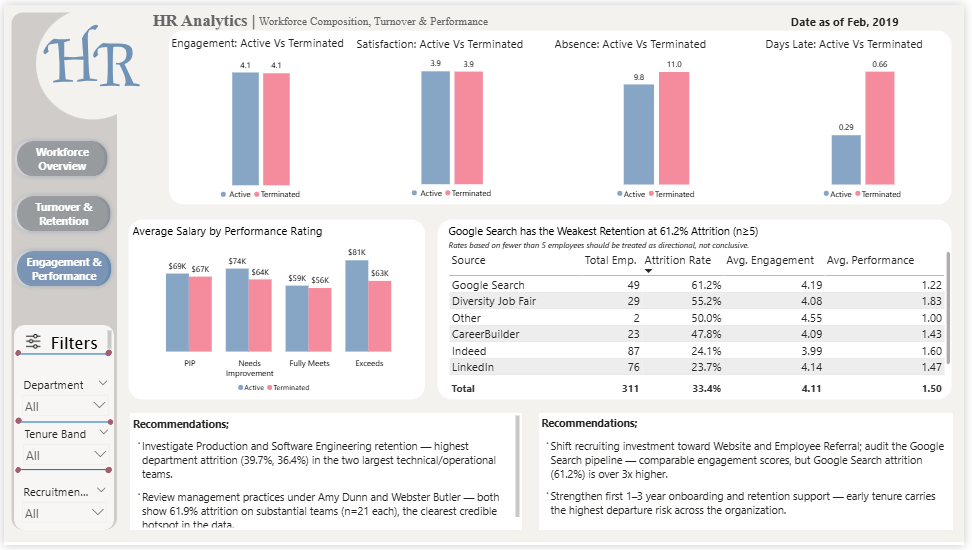

Layout of this report page (visuals, bound fields, positions):
{"tool":"powerbi","page":{"name":"Engagement, Performance & Recruitment ","canvas":[1920,1080],"ordinal":2},"visuals":[{"type":"shape","box":[20,640,200,410],"z":0},{"type":"slicer","fields":{"Values":["Dimdepartment.Department"]},"box":[25.3,738.7,193.2,90.3],"z":1000},{"type":"slicer","fields":{"Values":["Employees (working copy).Tenure_Band"]},"box":[27.5,835,192.5,90],"z":2000},{"type":"slicer","fields":{"Values":["Employees (working copy).RecruitmentSource"]},"box":[25.3,951.8,189.6,88.5],"z":3000},{"type":"image","box":[37.2,658.6,40,29],"z":4000},{"type":"textbox","box":[28.9,646.2,192,51.6],"z":5000},{"type":"shape","box":[30.7,688.1,182.4,19.9],"z":6000},{"type":"shape","box":[200.3,671,18.6,51.6],"z":7000},{"type":"shape","box":[20.6,671,16.5,51.6],"z":8000},{"type":"shape","box":[30.7,827.2,185,12],"z":9000},{"type":"shape","box":[204.1,825.4,18.1,16.3],"z":10000},{"type":"shape","box":[19.9,816.3,18.1,30.7],"z":11000},{"type":"shape","box":[31,924.9,177.5,10.3],"z":12000},{"type":"shape","box":[200.3,900.1,18.6,59.9],"z":13000},{"type":"shape","box":[20.6,900.1,16.5,59.9],"z":14000},{"type":"clusteredColumnChart","title":"Engagement: Active Vs Terminated","fields":{"Y":["_Measures.Avg Engagement (Active)","_Measures.Avg Engagement (Terminated)"]},"box":[330.3,59.9,369.5,338.6],"z":15000},{"type":"clusteredColumnChart","title":"Satisfaction: Active Vs Terminated","fields":{"Y":["_Measures.Avg Satisfaction (Active)","_Measures.Avg Satisfaction (Terminated)"]},"box":[699.9,61.9,394.3,334.5],"z":16000},{"type":"clusteredColumnChart","title":"Absence: Active Vs Terminated","fields":{"Y":["_Measures.Avg Absences (Active)","_Measures.Avg Absences (Terminated)"]},"box":[1095.8,61.1,419.8,335],"z":17000},{"type":"clusteredColumnChart","title":"Days Late: Active Vs Terminated","fields":{"Y":["_Measures.Avg Days Late (Active)","_Measures.Avg Days Late (Terminated)"]},"box":[1517.5,61.1,402,335],"z":18000},{"type":"shape","box":[1444.8,0,475,65],"z":19000},{"type":"tableEx","fields":{"Values":["Employees (working copy).RecruitmentSource","_Measures.Total Employees","_Measures.Attrition Rate by Recruitment Source","_Measures.Avg Engagement by Recruitment Source","_Measures.Avg Performance Rank by Recruitment Source"]},"box":[884,436,1014,348],"z":20000},{"type":"clusteredColumnChart","title":"Average Salary by Performance Rating ","fields":{"Y":["_Measures.Average Salary"],"Category":["DimPerformance Score.PerformanceScore"],"Series":["Employees (working copy).Employment Status (Simple)"]},"box":[252.3,435.5,579.4,348.8],"z":21000},{"type":"actionButton","box":[17.7,264.1,197.1,86.7],"z":22000},{"type":"actionButton","box":[17.7,373.6,203,86.7],"z":23000},{"type":"actionButton","box":[17.7,483.1,204.4,86.7],"z":24000},{"type":"image","box":[24.8,6.2,305.5,223],"z":25000},{"type":"shape","box":[208,0,384,60],"z":26000},{"type":"shape","box":[504,12,492,40],"z":27000},{"type":"textbox","box":[252,816,784,234],"z":28000},{"type":"textbox","box":[1070,816,828,234],"z":29000}]}

Visuals, with their boxes in screenshot pixels (x1, y1, x2, y2), scaled from the page's 1920x1080 canvas onto the 972x550 screenshot:
shape: detection(10, 326, 111, 535)
slicer - Dimdepartment.Department: detection(13, 376, 111, 422)
slicer - Employees (working copy).Tenure_Band: detection(14, 425, 111, 471)
slicer - Employees (working copy).RecruitmentSource: detection(13, 485, 109, 530)
image: detection(19, 335, 39, 350)
textbox: detection(15, 329, 112, 355)
shape: detection(16, 350, 108, 361)
shape: detection(101, 342, 111, 368)
shape: detection(10, 342, 19, 368)
shape: detection(16, 421, 109, 427)
shape: detection(103, 420, 112, 429)
shape: detection(10, 416, 19, 431)
shape: detection(16, 471, 106, 476)
shape: detection(101, 458, 111, 489)
shape: detection(10, 458, 19, 489)
"Engagement: Active Vs Terminated" clusteredColumnChart: detection(167, 31, 354, 203)
"Satisfaction: Active Vs Terminated" clusteredColumnChart: detection(354, 32, 554, 202)
"Absence: Active Vs Terminated" clusteredColumnChart: detection(555, 31, 767, 202)
"Days Late: Active Vs Terminated" clusteredColumnChart: detection(768, 31, 971, 202)
shape: detection(731, 0, 971, 33)
tableEx - Employees (working copy).RecruitmentSource x _Measures.Total Employees: detection(448, 222, 961, 399)
"Average Salary by Performance Rating " clusteredColumnChart: detection(128, 222, 421, 399)
actionButton: detection(9, 134, 109, 179)
actionButton: detection(9, 190, 112, 234)
actionButton: detection(9, 246, 112, 290)
image: detection(13, 3, 167, 117)
shape: detection(105, 0, 300, 31)
shape: detection(255, 6, 504, 26)
textbox: detection(128, 416, 524, 535)
textbox: detection(542, 416, 961, 535)
